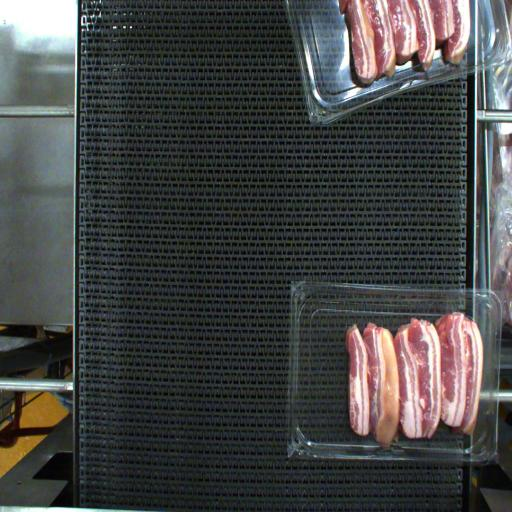twisted-meat: (370, 326, 408, 452)
